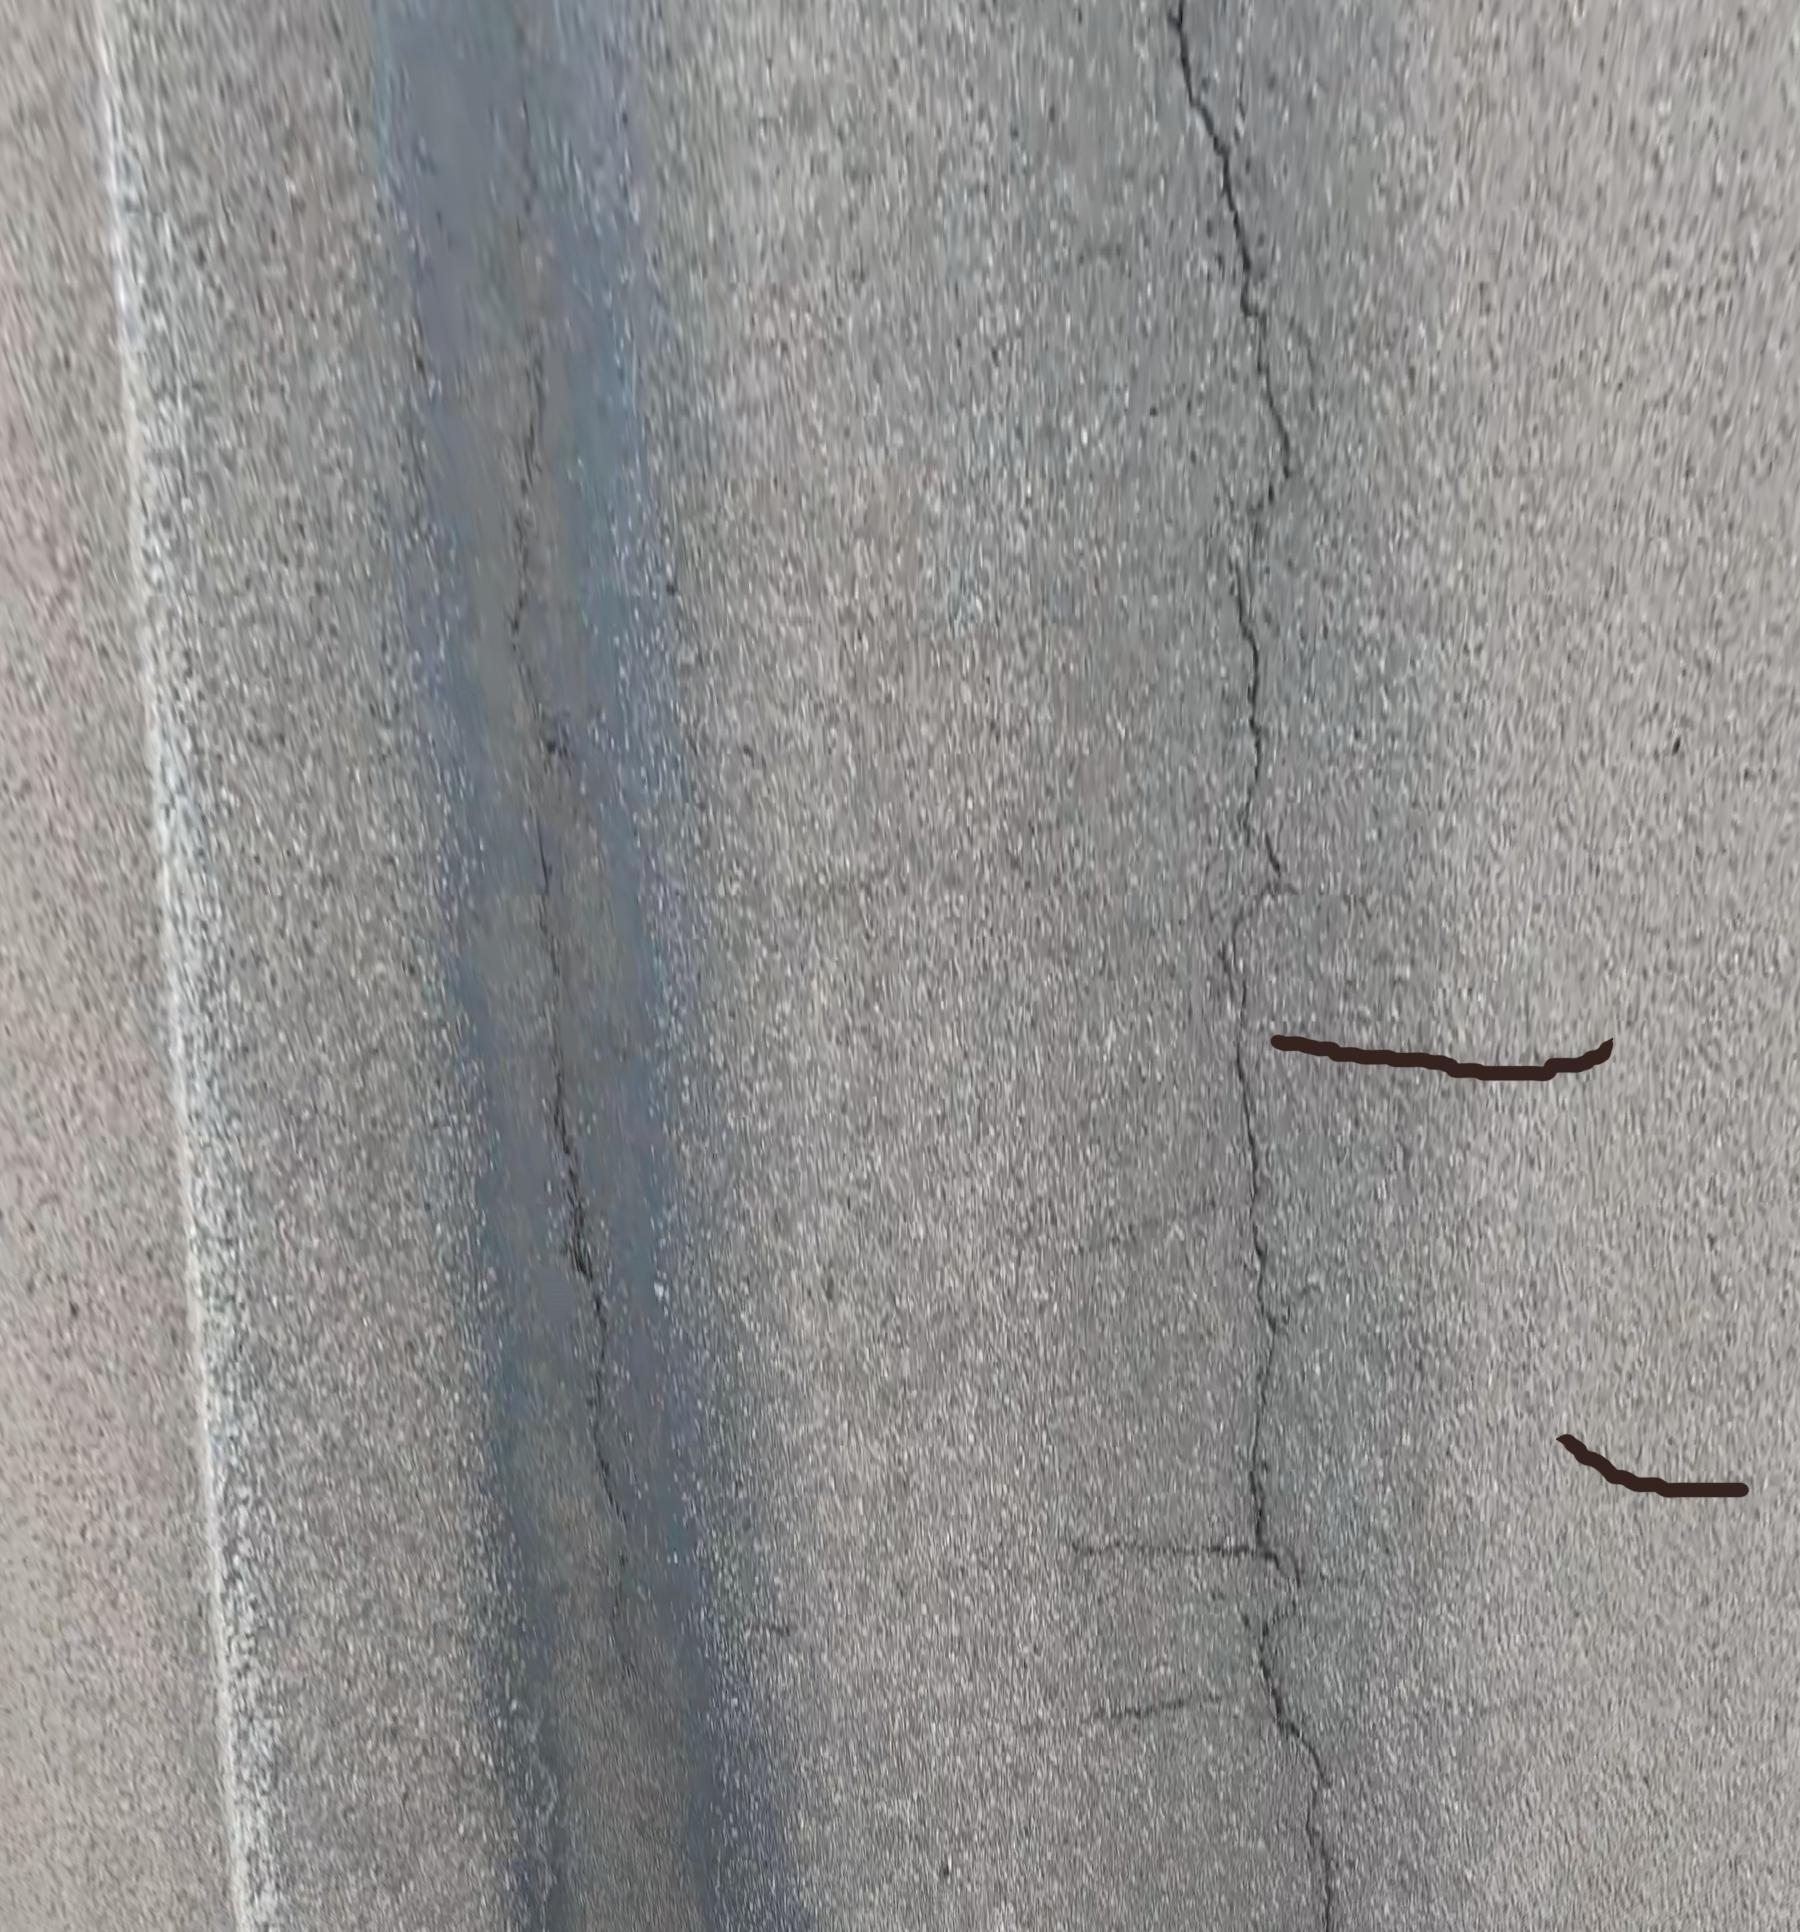pothole_patch_poor: (372, 0, 805, 1932)
